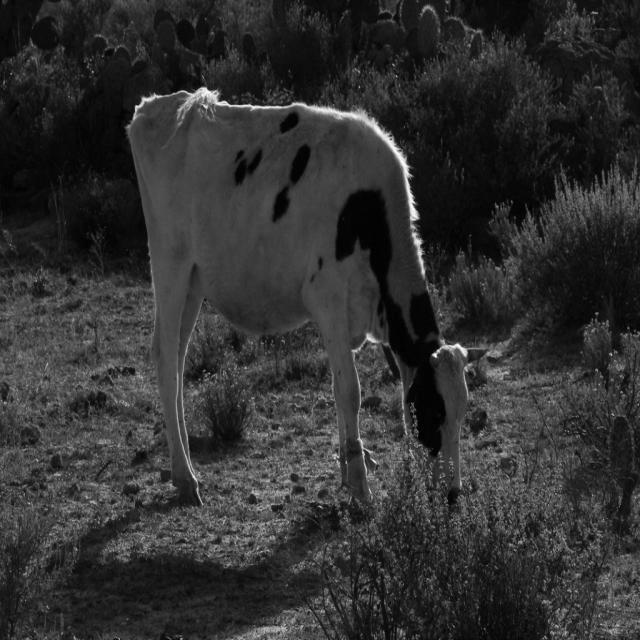cow: (128, 89, 480, 503)
